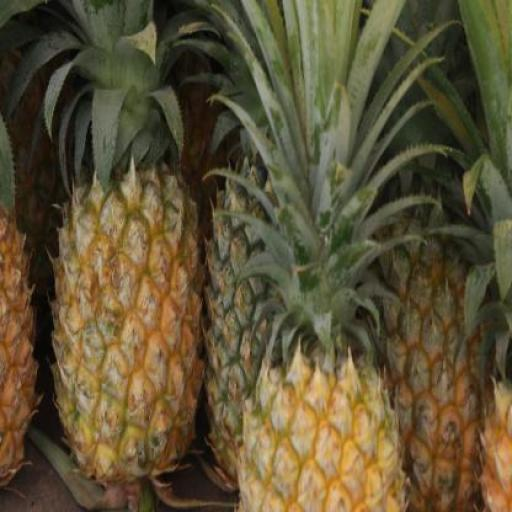------------------------------: (53, 169, 197, 476)
Pineapple - v8 v1: (238, 335, 404, 511)
